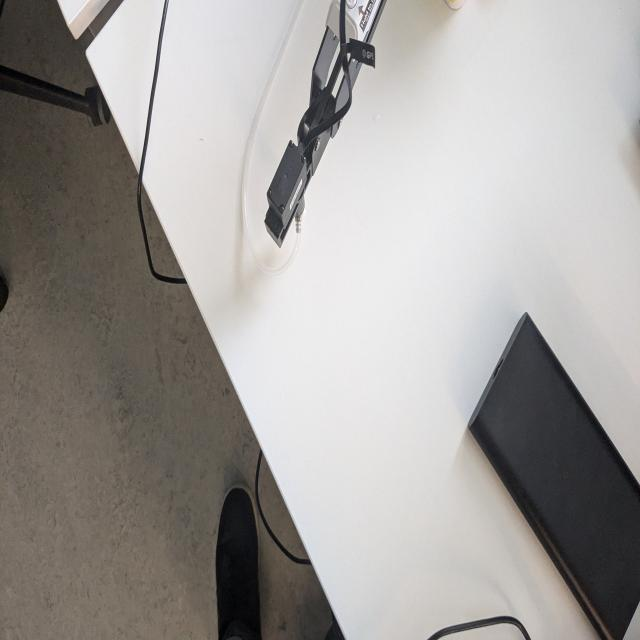Robot-end-effector-HF8z: (263, 138, 310, 251)
